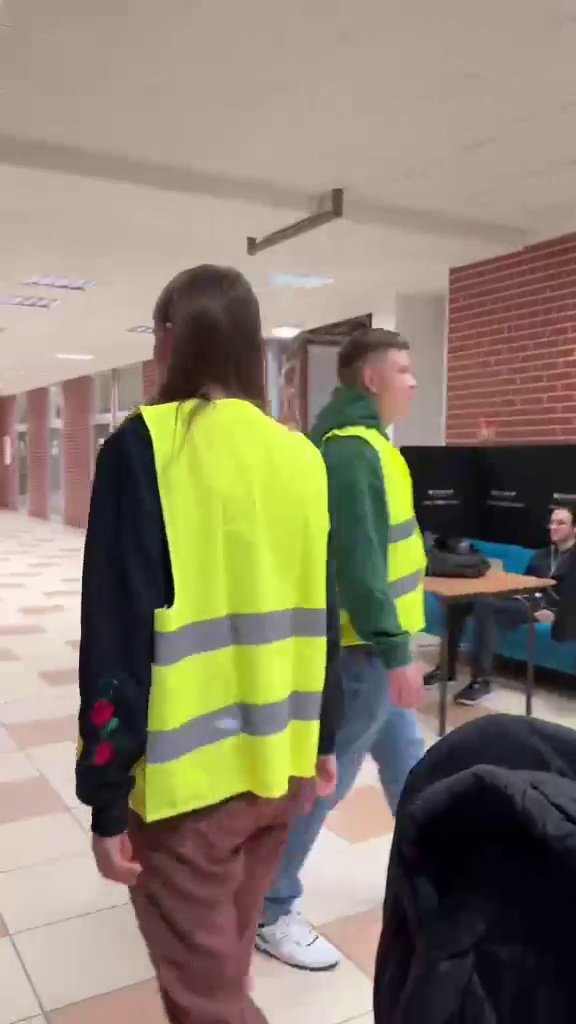no vest: (433, 488, 576, 709)
vest: (78, 258, 342, 1024), (317, 317, 435, 951)
